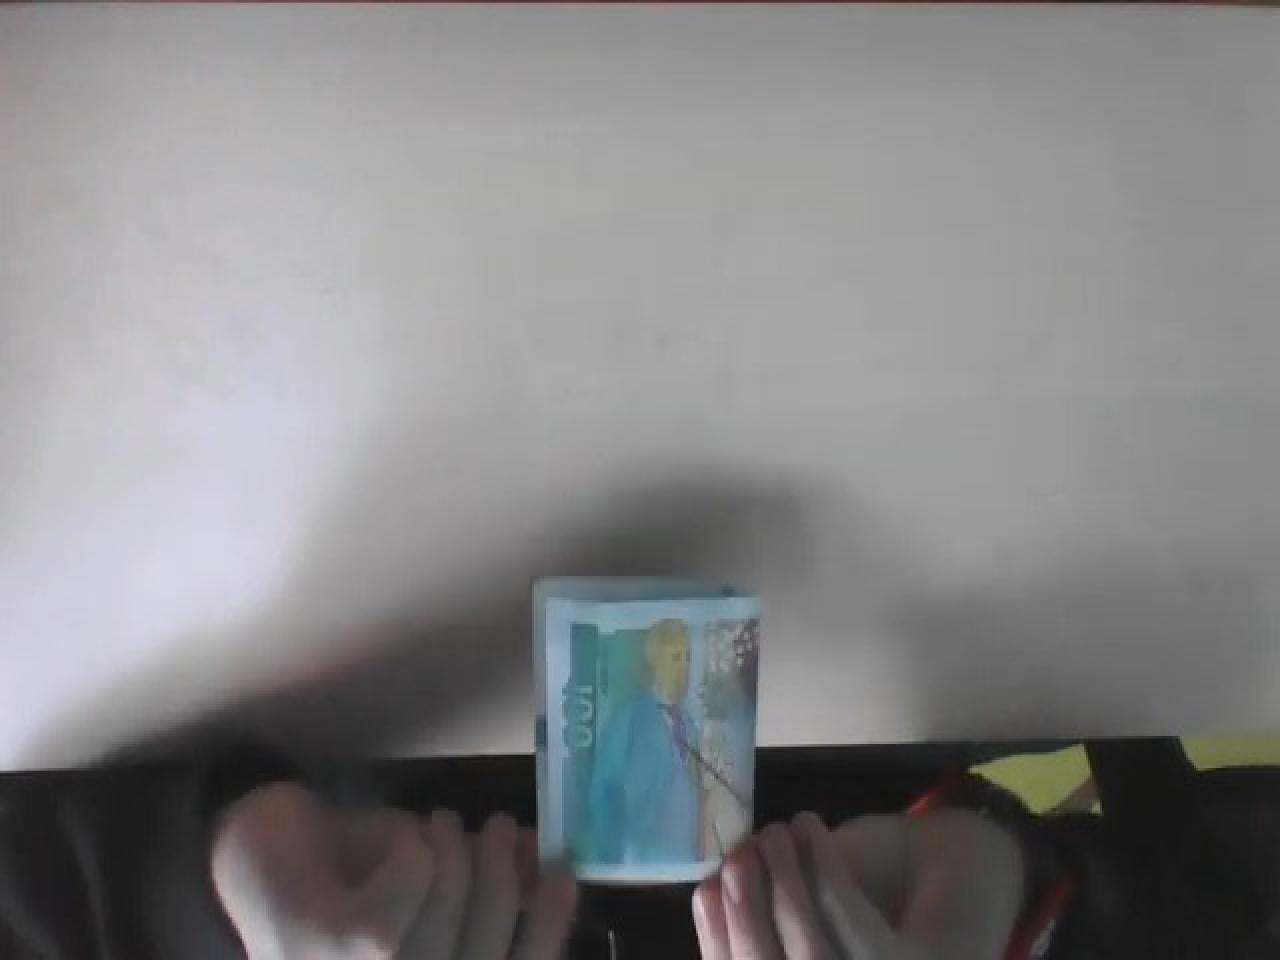100leva: (530, 571, 760, 885)
